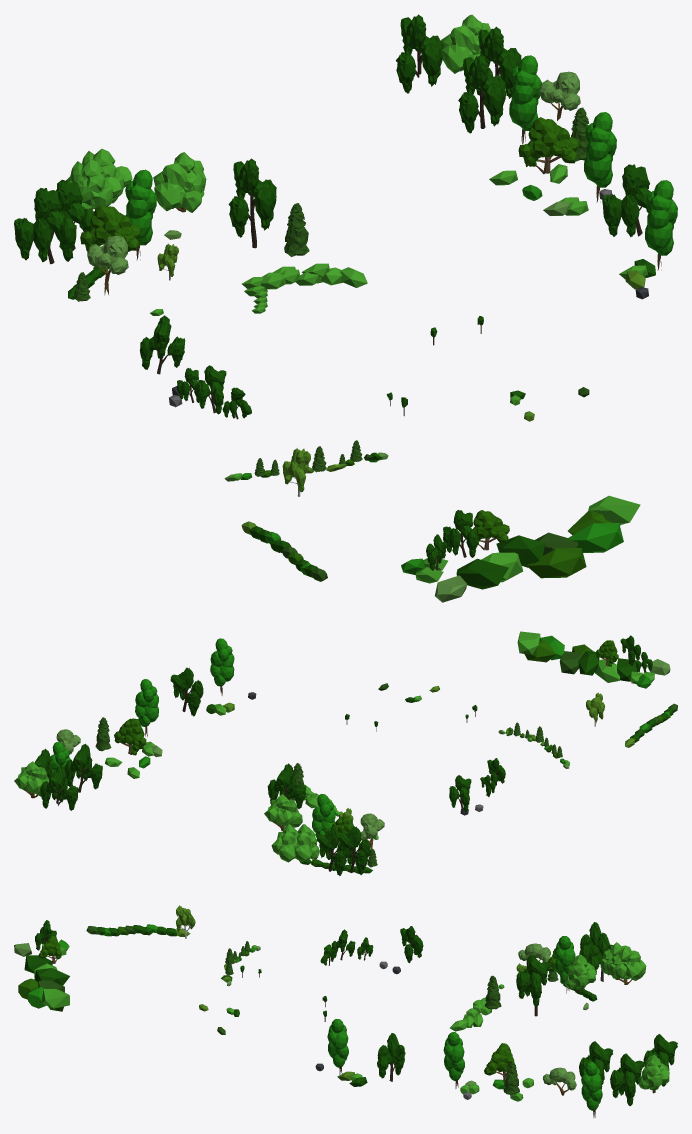
File: vegetation_no_collision.fbx
3 renders of one model, top to bottom at view 1: azimuth 30°, elevation 25°; view 2: azimuth 150°, elevation 25°; view 3: azimuth 270°, elevation 25°, orthographic. The views are drawn at different scales.
Parts seen in each view (by area): view 1: _10_tree.006, _10_tree.005, _10_tree.010, _10_tree.008, _4_tree.001, _10_tree.011, _6_tree.002, _7_tree.003, _7_tree.004, _7_tree.002, _7_tree.001, _6_tree.001 (+17 smaller); view 2: _10_tree.010, _10_tree.008, _10_tree.006, _10_tree.011, _10_tree.005, _7_tree.004, _7_tree.003, _4_tree.001, _10_tree.007, _6_tree.002, _4_tree.004, _7_tree.001 (+13 smaller); view 3: _10_tree.005, _10_tree.009, _4_tree.003, _10_tree.011, _7_tree.002, _7_tree.003, _7_tree.004, _4_tree.001, _4_tree.004, _7_tree.001, _10_tree.010, _10_tree.008 (+14 smaller).
Part boxes in pixels (<box>): _10_tree.006: <box>14,188,76,264</box>; _10_tree.005: <box>228,158,276,248</box>; _10_tree.010: <box>458,54,506,133</box>; _10_tree.008: <box>396,14,443,93</box>; _4_tree.001: <box>153,152,206,212</box>; _10_tree.011: <box>602,164,650,237</box>; _6_tree.002: <box>518,117,579,174</box>; _7_tree.003: <box>584,112,616,202</box>; _7_tree.004: <box>645,180,677,270</box>; _7_tree.002: <box>509,55,541,144</box>; _7_tree.001: <box>125,169,156,260</box>; _6_tree.001: <box>80,204,141,252</box>; _10_tree.010: <box>64,743,102,792</box>; _10_tree.008: <box>40,765,78,810</box>; _10_tree.006: <box>338,826,370,874</box>; _10_tree.011: <box>170,667,203,716</box>; _10_tree.005: <box>267,763,305,808</box>; _7_tree.004: <box>210,638,234,695</box>; _7_tree.003: <box>135,679,158,737</box>; _4_tree.001: <box>264,794,302,830</box>; _10_tree.007: <box>316,827,349,875</box>; _6_tree.002: <box>114,718,146,755</box>; _4_tree.004: <box>14,761,49,798</box>; _7_tree.001: <box>312,794,335,838</box>; _10_tree.005: <box>516,954,550,1016</box>; _10_tree.009: <box>610,1053,644,1105</box>; _4_tree.003: <box>609,947,646,984</box>; _10_tree.011: <box>377,1033,405,1081</box>; _7_tree.002: <box>581,1062,602,1117</box>; _7_tree.003: <box>443,1032,464,1088</box>; _7_tree.004: <box>327,1019,348,1074</box>; _4_tree.001: <box>565,954,595,992</box>; _4_tree.004: <box>638,1055,669,1093</box>; _7_tree.001: <box>554,936,575,993</box>; _10_tree.010: <box>579,1041,613,1089</box>; _10_tree.008: <box>643,1034,677,1086</box>.
Size of the model in its own units: 9620 by 2153 by 13748.
